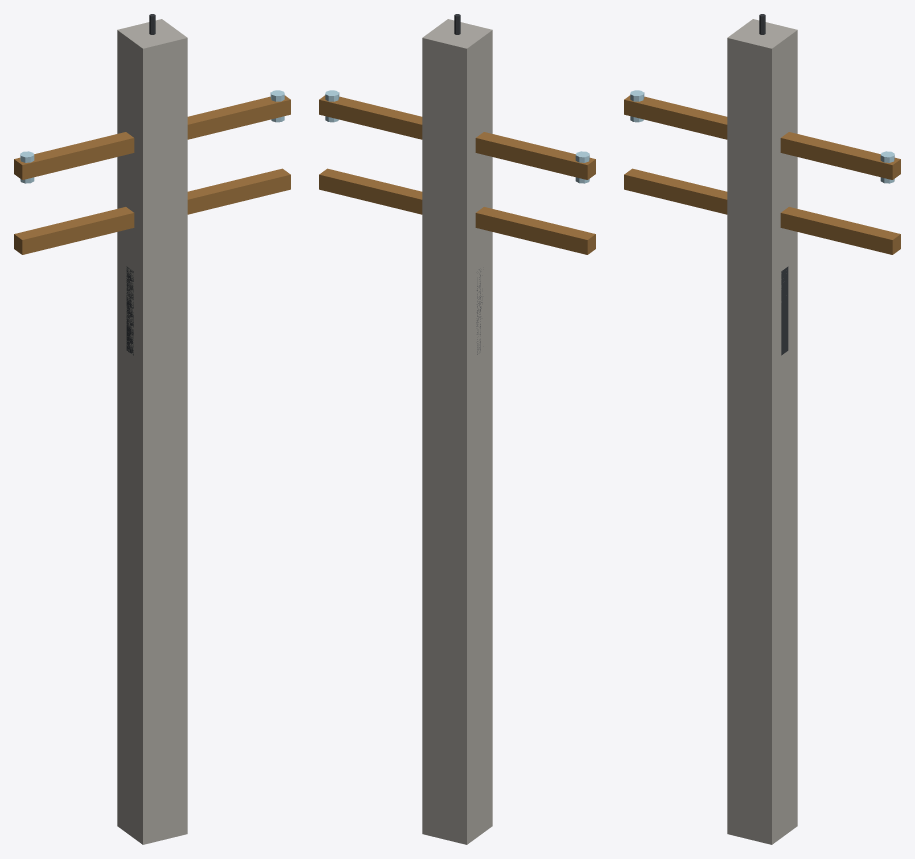
The model's file is PRP_PowerPole.fbx.
The picture shows the model from 3 angles, left to right: view 1: azimuth 30°, elevation 25°; view 2: azimuth 150°, elevation 25°; view 3: azimuth 330°, elevation 25°; orthographic projection.
Parts seen in each view (by area): view 1: PRP_PowerPole__COL_Main, PRP_PowerPole__BODY; view 2: PRP_PowerPole__COL_Main, PRP_PowerPole__BODY; view 3: PRP_PowerPole__COL_Main, PRP_PowerPole__BODY.
Part boxes in pixels (left/top/right/bottom): PRP_PowerPole__COL_Main: left=117, top=19, right=187, bottom=844; PRP_PowerPole__BODY: left=14, top=14, right=290, bottom=355; PRP_PowerPole__COL_Main: left=422, top=19, right=492, bottom=844; PRP_PowerPole__BODY: left=319, top=14, right=595, bottom=354; PRP_PowerPole__COL_Main: left=727, top=19, right=797, bottom=844; PRP_PowerPole__BODY: left=624, top=14, right=900, bottom=355.
Bounding box in the file's own units: 3 × 8.7 × 0.5.
